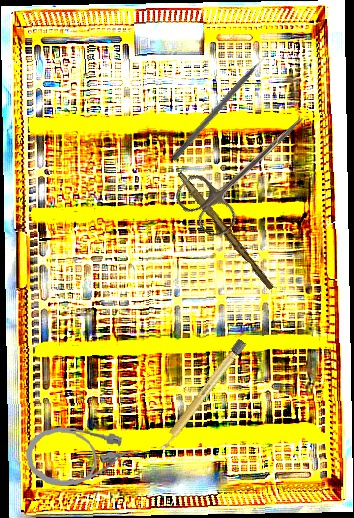Cannula: (24, 425, 140, 491)
Iris Scissors: (170, 92, 323, 243)
Pusher: (170, 47, 275, 163)
Scalpel Handle: (173, 171, 277, 291), (155, 337, 248, 455)
